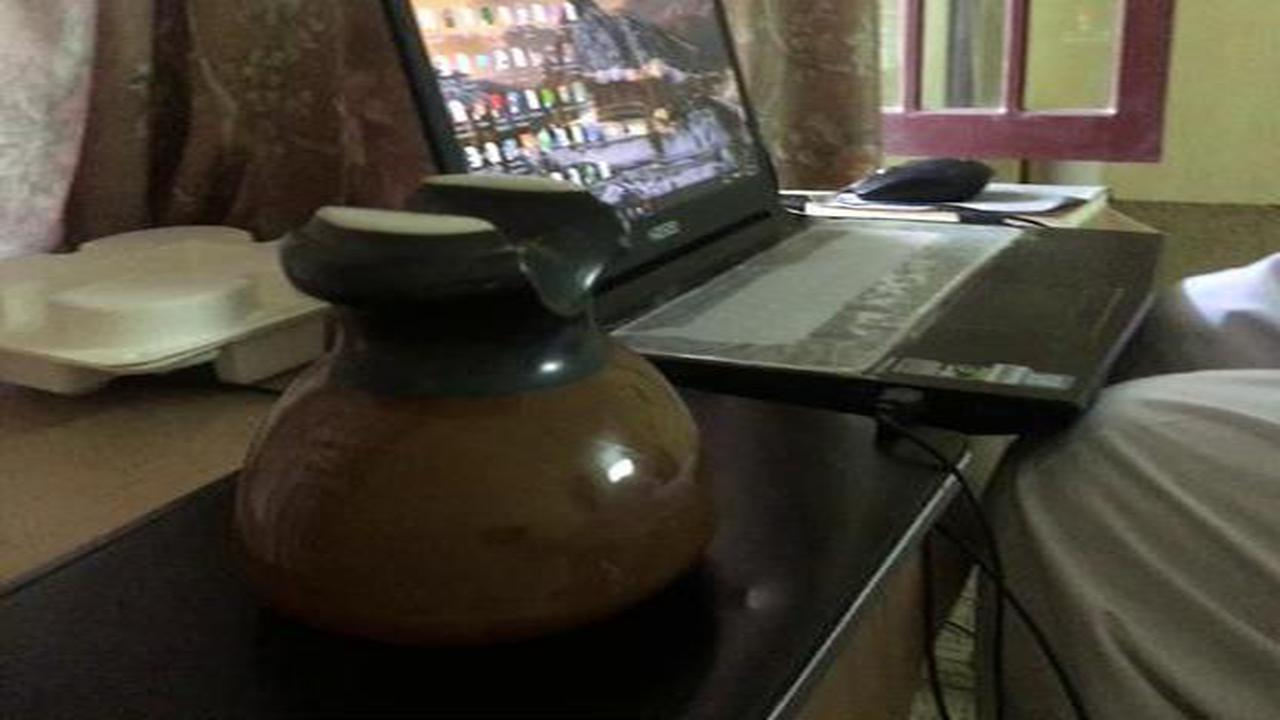insulator_pin: (207, 160, 751, 655)
